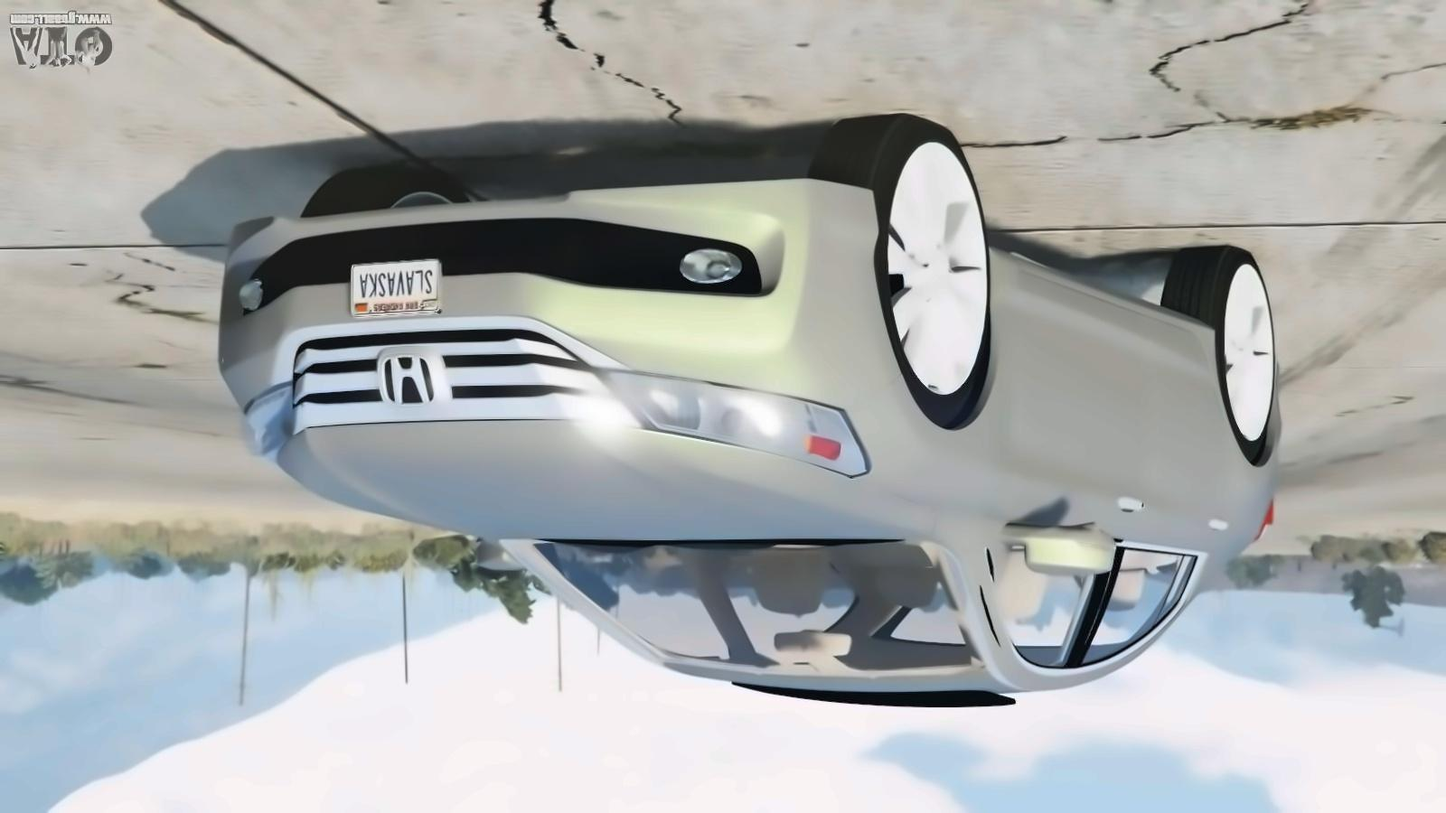Car hood: (264, 417, 911, 542)
Driver-s door - -F-R-: (977, 239, 1146, 691)
Fender - -F-R-: (841, 210, 1019, 583)
Front bumper: (210, 170, 882, 380)
Headlight - -L-: (225, 372, 308, 465)
Headlight - -R-: (583, 350, 878, 491)
Passenger-s door - -R-R-: (1104, 274, 1241, 689)
Rear bumper: (1227, 432, 1313, 565)
Rear light - -R-: (1247, 484, 1318, 583)
Side bumper - -R-: (981, 231, 1225, 374)
Side mirror - -L-: (449, 520, 549, 603)
Side mirror - -R-: (983, 488, 1135, 598)
